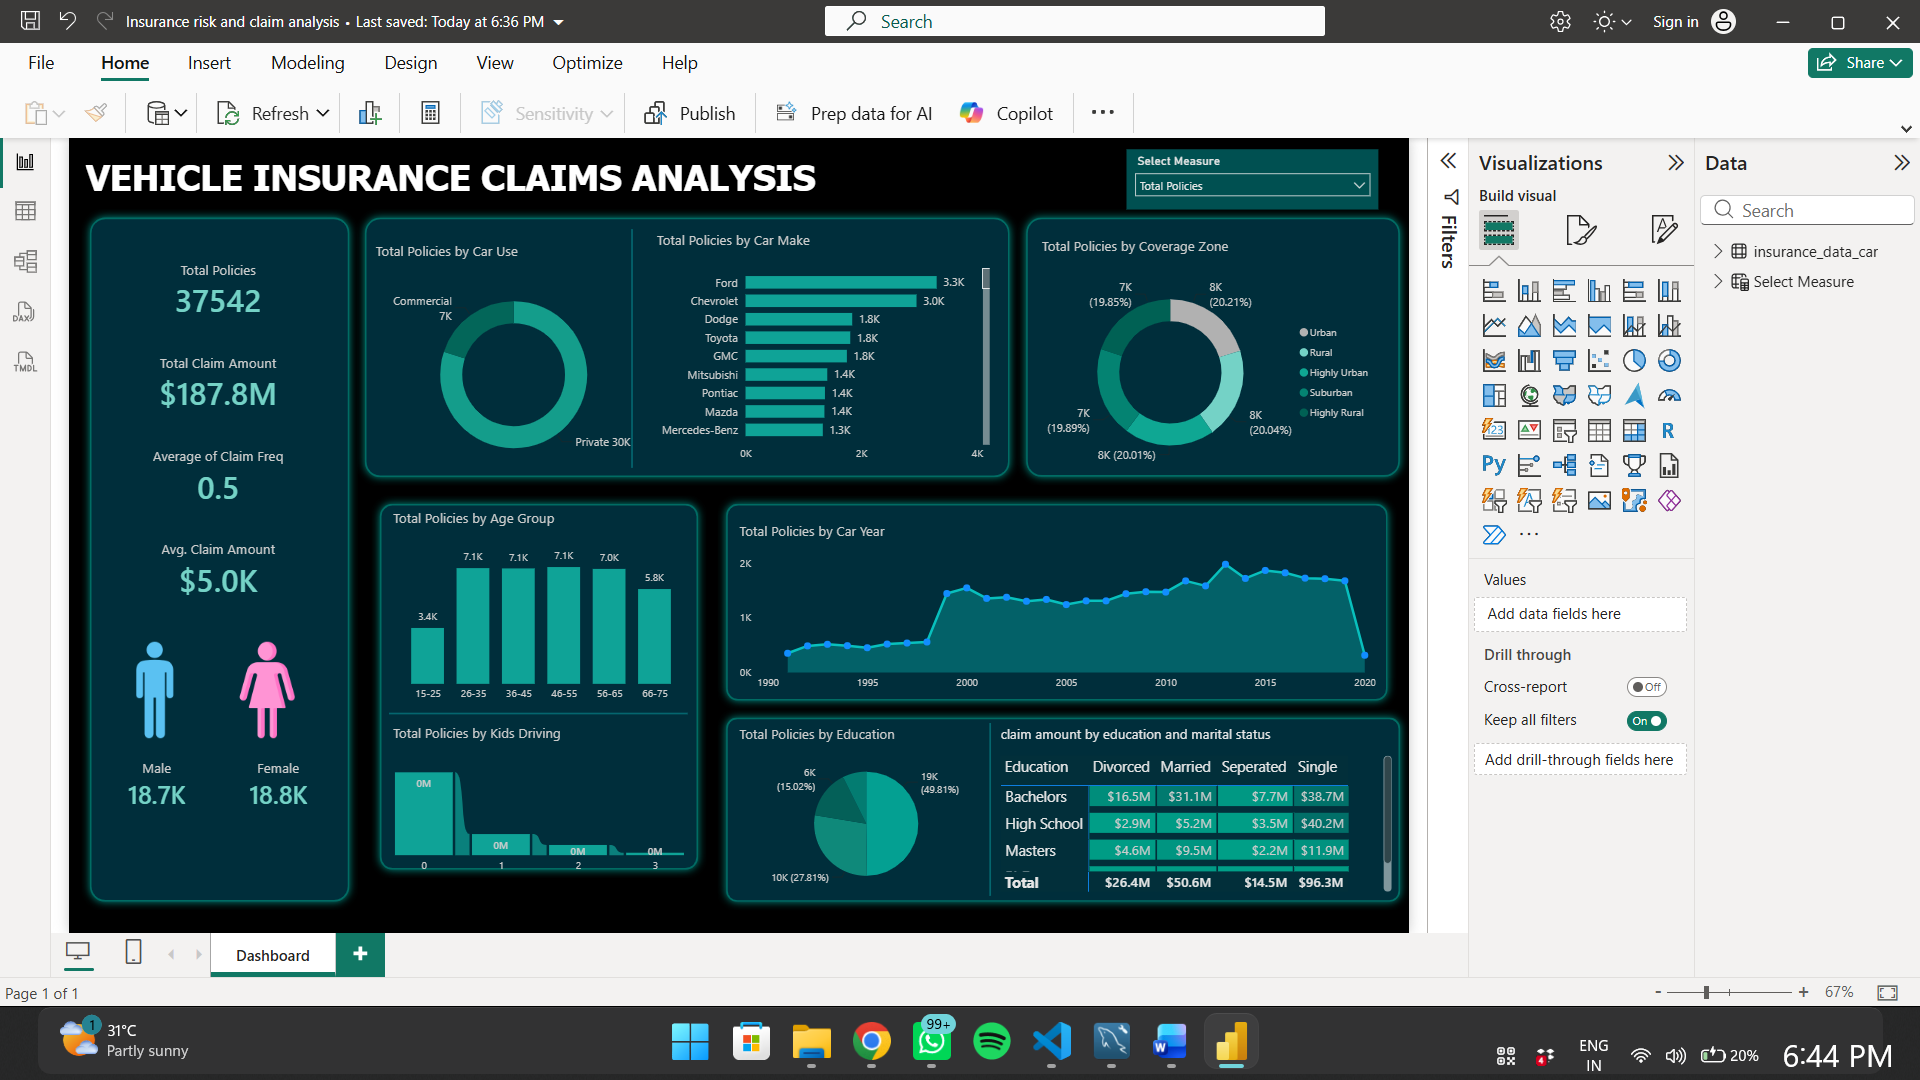

This screenshot's page, from the dashboard's own definition file:
{"tool":"powerbi","page":{"name":"Page 1","canvas":[1600,950],"ordinal":0},"visuals":[{"type":"textbox","box":[14.7,16.2,885.7,69],"z":0},{"type":"shape","box":[15,85,330,837],"z":1000},{"type":"cardVisual","fields":{"Data":["insurance_data_car.Total Policies","insurance_data_car.Total Claim Amount","Avg(insurance_data_car.Claim Freq)","insurance_data_car.Avg. Claim Amount"]},"box":[44,120,270,460],"z":2000},{"type":"cardVisual","fields":{"Data":["insurance_data_car.Male Count","insurance_data_car.Female Count"]},"box":[25.5,716.3,304,110],"z":3000},{"type":"image","box":[44.6,601.7,115,115],"z":4000},{"type":"image","box":[179.9,601.7,115,115],"z":5000},{"type":"slicer","fields":{"Values":["Select Measure.Select Measure"]},"box":[1263.3,13.3,300.9,71.6],"z":6000},{"type":"shape","box":[343.3,85,790,330],"z":7000},{"type":"donutChart","fields":{"Y":["insurance_data_car.Total Policies"],"Category":["insurance_data_car.Car Use"]},"box":[361.9,123.5,340,285],"z":8000},{"type":"clusteredBarChart","fields":{"Y":["insurance_data_car.Total Policies"],"Category":["insurance_data_car.Car Make"]},"box":[696.7,110,407.5,284.9],"z":9000},{"type":"shape","box":[1133.3,85,466.4,329.5],"z":10000},{"type":"donutChart","fields":{"Y":["insurance_data_car.Total Policies"],"Category":["insurance_data_car.Coverage Zone"]},"box":[1157.3,117.8,409.1,291.3],"z":11000},{"type":"shape","box":[361.7,426.7,400,457],"z":12000},{"type":"clusteredColumnChart","fields":{"Y":["insurance_data_car.Total Policies"],"Category":["insurance_data_car.Age Group"]},"box":[381.7,441.7,365,240],"z":13000},{"type":"ribbonChart","fields":{"Y":["insurance_data_car.Total Policies"],"Category":["insurance_data_car.Kids Driving"]},"box":[382,698.8,359.8,187.8],"z":14000},{"type":"shape","box":[775,426.7,810,255],"z":15000},{"type":"areaChart","fields":{"Y":["insurance_data_car.Total Policies"],"Category":["insurance_data_car.Car Year"]},"box":[795,458.3,770,210],"z":16000},{"type":"shape","box":[775,681.7,825,240],"z":17000},{"type":"pieChart","fields":{"Y":["insurance_data_car.Total Policies"],"Category":["insurance_data_car.Education"]},"box":[795,700,313.3,205],"z":18000},{"type":"pivotTable","title":"claim amount by education and marital status","fields":{"Rows":["insurance_data_car.Education"],"Columns":["insurance_data_car.Marital Status"],"Values":["insurance_data_car.Total Claim Amount"]},"box":[1108.3,700,476.7,205],"z":19000},{"type":"shape","box":[645,108.3,55,285],"z":20000},{"type":"shape","box":[1080,698.3,41.7,206.7],"z":21000},{"type":"shape","box":[381.7,660,356.7,55],"z":22000}]}

Visuals, with their boxes on the page's 1600x950 design canvas (x1, y1, x2, y2). These are canvas units, not pixel positions in the 1920x1080 screenshot, which may show the page scaled, cropped or inside an application window:
textbox: region(15, 16, 900, 85)
shape: region(15, 85, 345, 922)
cardVisual - insurance_data_car.Total Policies x insurance_data_car.Total Claim Amount: region(44, 120, 314, 580)
cardVisual - insurance_data_car.Male Count x insurance_data_car.Female Count: region(26, 716, 330, 826)
image: region(45, 602, 160, 717)
image: region(180, 602, 295, 717)
slicer - Select Measure.Select Measure: region(1263, 13, 1564, 85)
shape: region(343, 85, 1133, 415)
donutChart - insurance_data_car.Total Policies x insurance_data_car.Car Use: region(362, 124, 702, 408)
clusteredBarChart - insurance_data_car.Total Policies x insurance_data_car.Car Make: region(697, 110, 1104, 395)
shape: region(1133, 85, 1600, 414)
donutChart - insurance_data_car.Total Policies x insurance_data_car.Coverage Zone: region(1157, 118, 1566, 409)
shape: region(362, 427, 762, 884)
clusteredColumnChart - insurance_data_car.Total Policies x insurance_data_car.Age Group: region(382, 442, 747, 682)
ribbonChart - insurance_data_car.Total Policies x insurance_data_car.Kids Driving: region(382, 699, 742, 887)
shape: region(775, 427, 1585, 682)
areaChart - insurance_data_car.Total Policies x insurance_data_car.Car Year: region(795, 458, 1565, 668)
shape: region(775, 682, 1600, 922)
pieChart - insurance_data_car.Total Policies x insurance_data_car.Education: region(795, 700, 1108, 905)
"claim amount by education and marital status" pivotTable: region(1108, 700, 1585, 905)
shape: region(645, 108, 700, 393)
shape: region(1080, 698, 1122, 905)
shape: region(382, 660, 738, 715)
